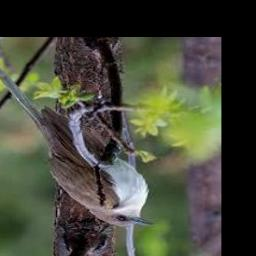Cuckoo: (0, 58, 155, 227)
